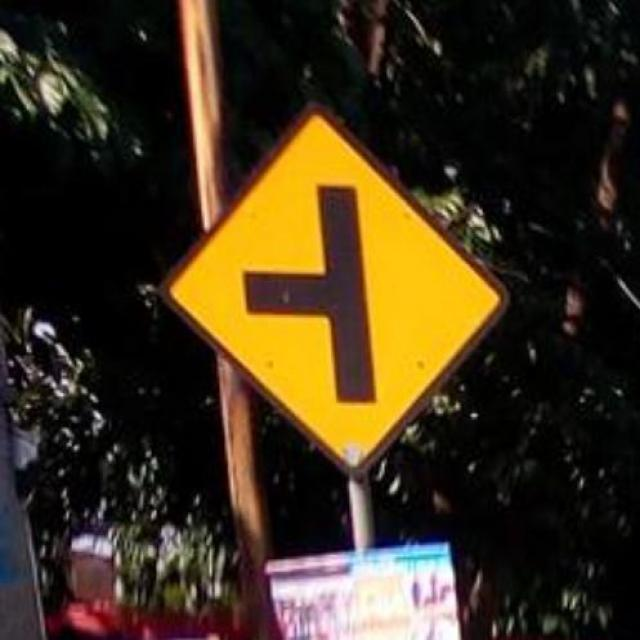traffic sign: (175, 102, 501, 470)
